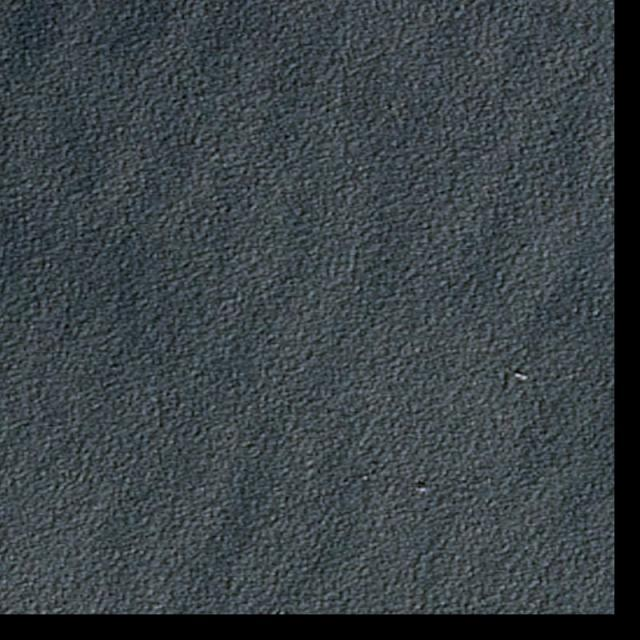ship: (513, 372, 530, 383), (416, 486, 432, 494)
